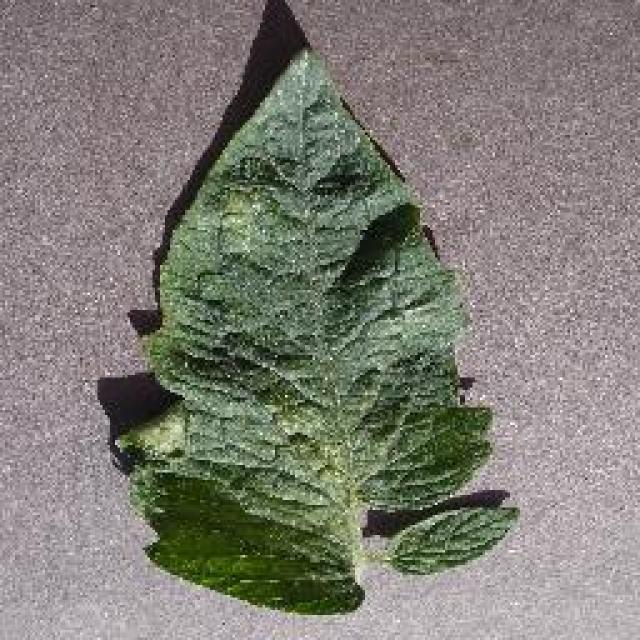Tomato spider mites leaf: (118, 45, 520, 615)
